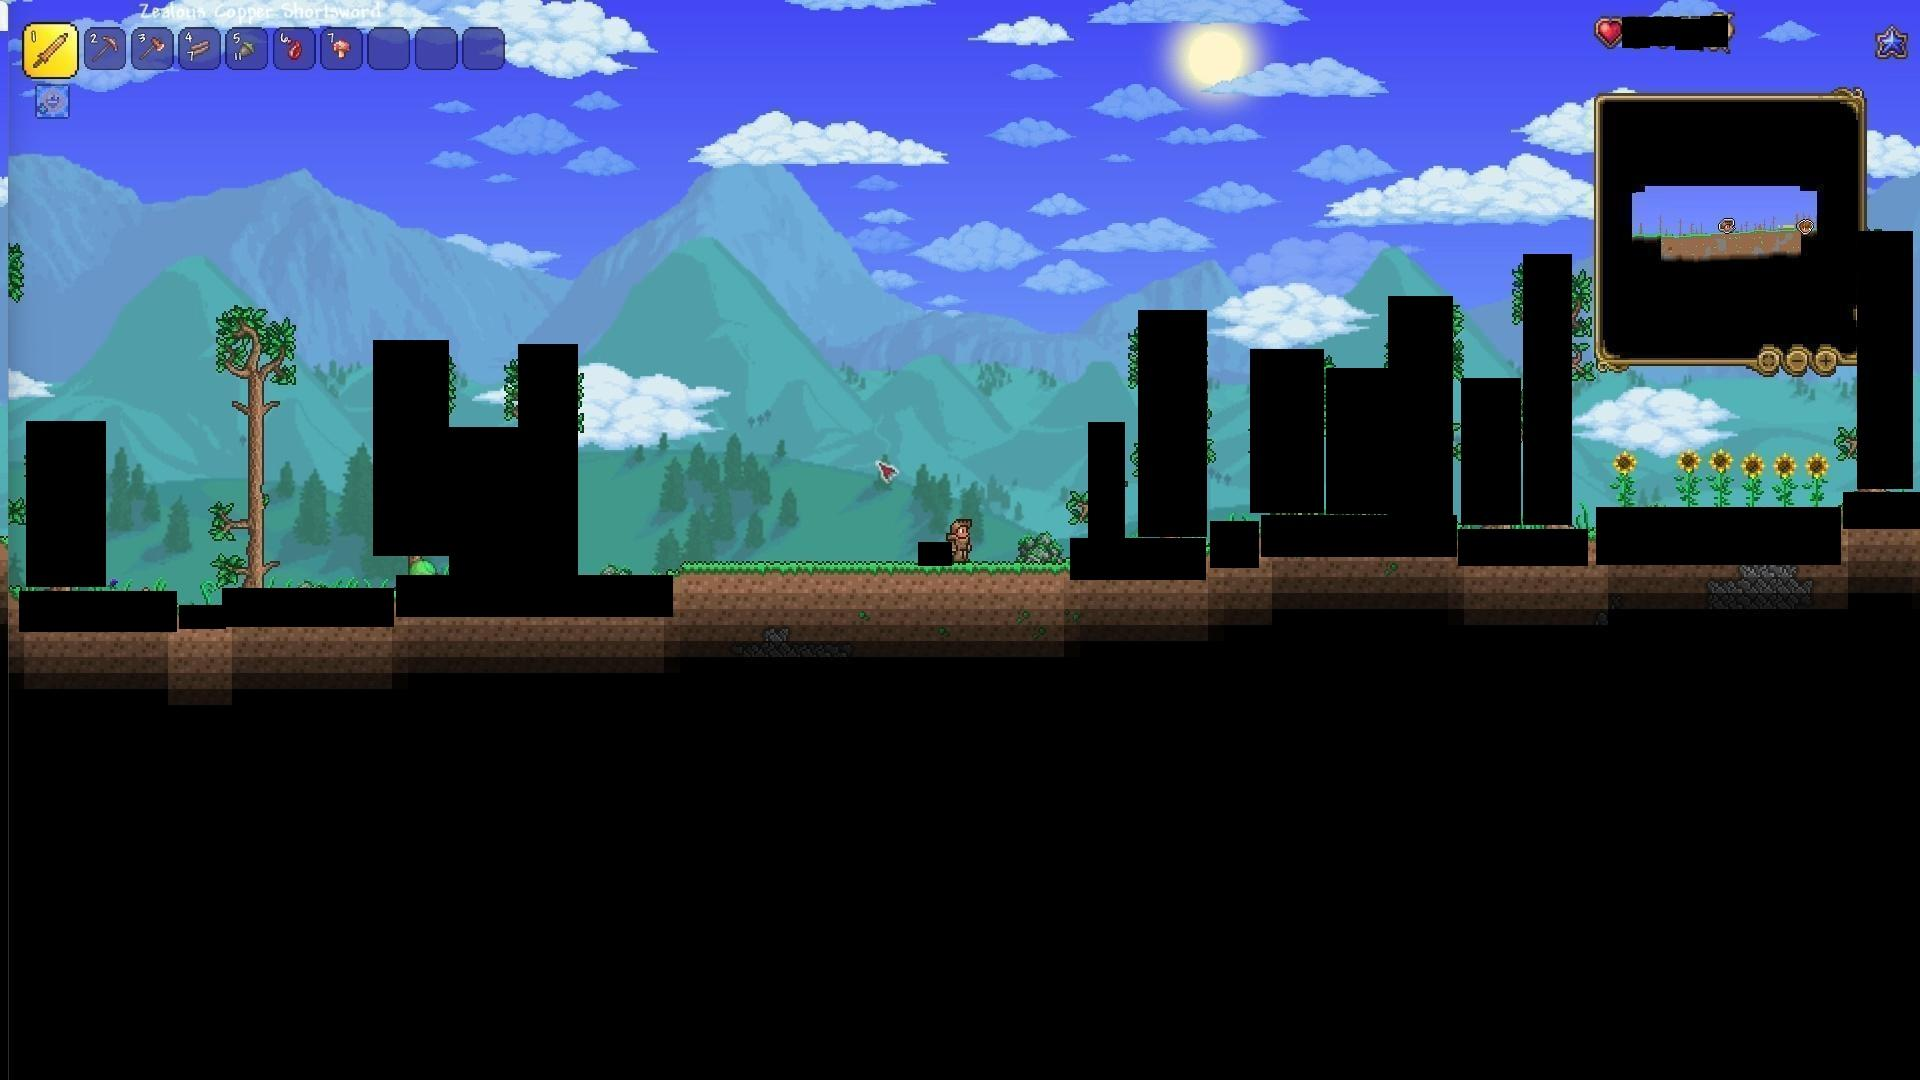dirt: (675, 564, 1072, 607)
heart: (1593, 15, 1625, 45)
slime: (404, 556, 436, 579)
tree: (219, 297, 287, 582)
wood: (183, 33, 214, 61)
